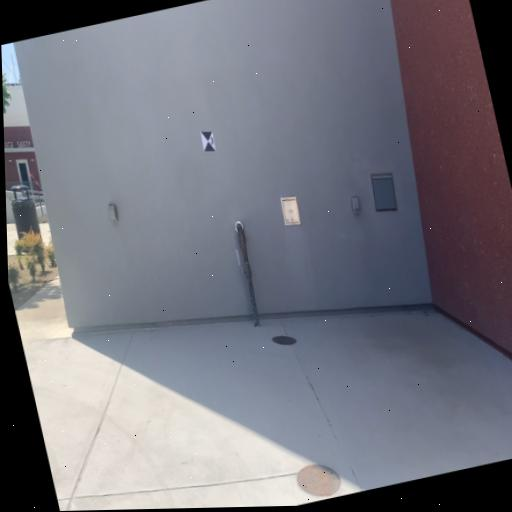target3: (200, 129, 217, 152)
